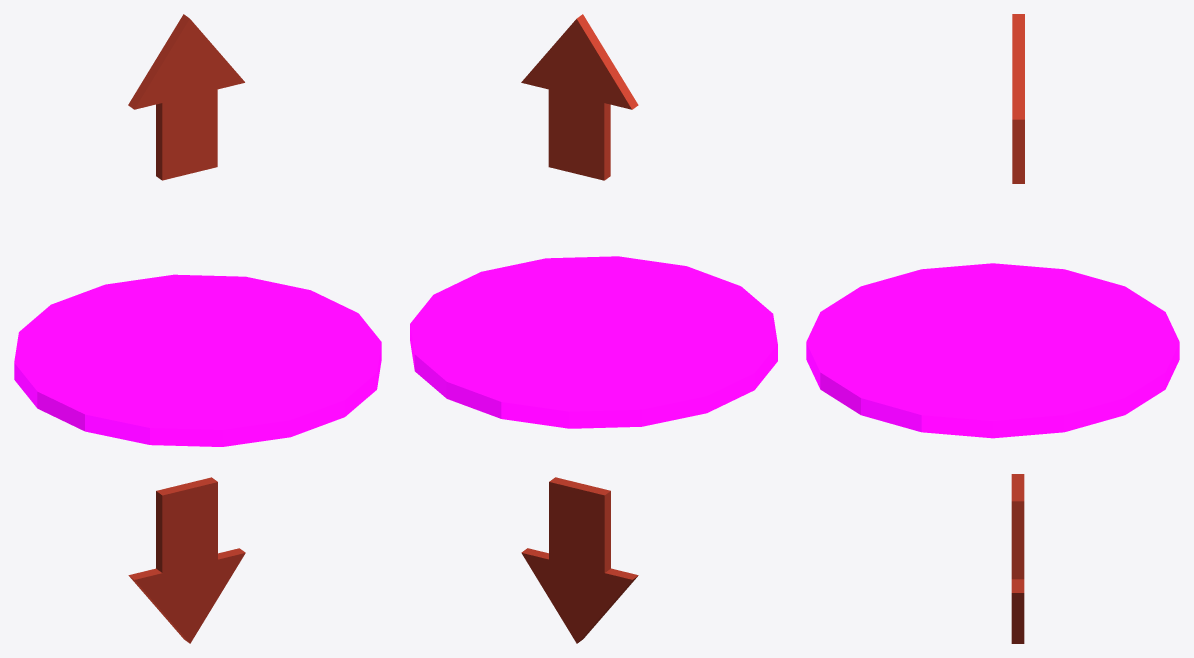
File: Vertical_Purple_Pad.glb
3 views of the same model, side by side, from view 1: azimuth 30°, elevation 25°; view 2: azimuth 150°, elevation 25°; view 3: azimuth 270°, elevation 25° (orthographic).
Parts seen in each view (by area): view 1: Cylinder.021, Plane, Plane.001; view 2: Cylinder.021, Plane.001, Plane; view 3: Cylinder.021, Plane, Plane.001.
Boxes of the visible parts, x1=… form: Cylinder.021: x1=14, y1=274, x2=381, y2=446; Plane: x1=128, y1=477, x2=245, y2=643; Plane.001: x1=128, y1=14, x2=244, y2=180; Cylinder.021: x1=410, y1=256, x2=777, y2=428; Plane.001: x1=521, y1=14, x2=638, y2=180; Plane: x1=521, y1=477, x2=638, y2=643; Cylinder.021: x1=806, y1=263, x2=1179, y2=438; Plane: x1=1011, y1=474, x2=1024, y2=643; Plane.001: x1=1012, y1=14, x2=1024, y2=183.
Bounding box in the file's own units: 2 × 3.72 × 2.
2 materials, 2 textured.
